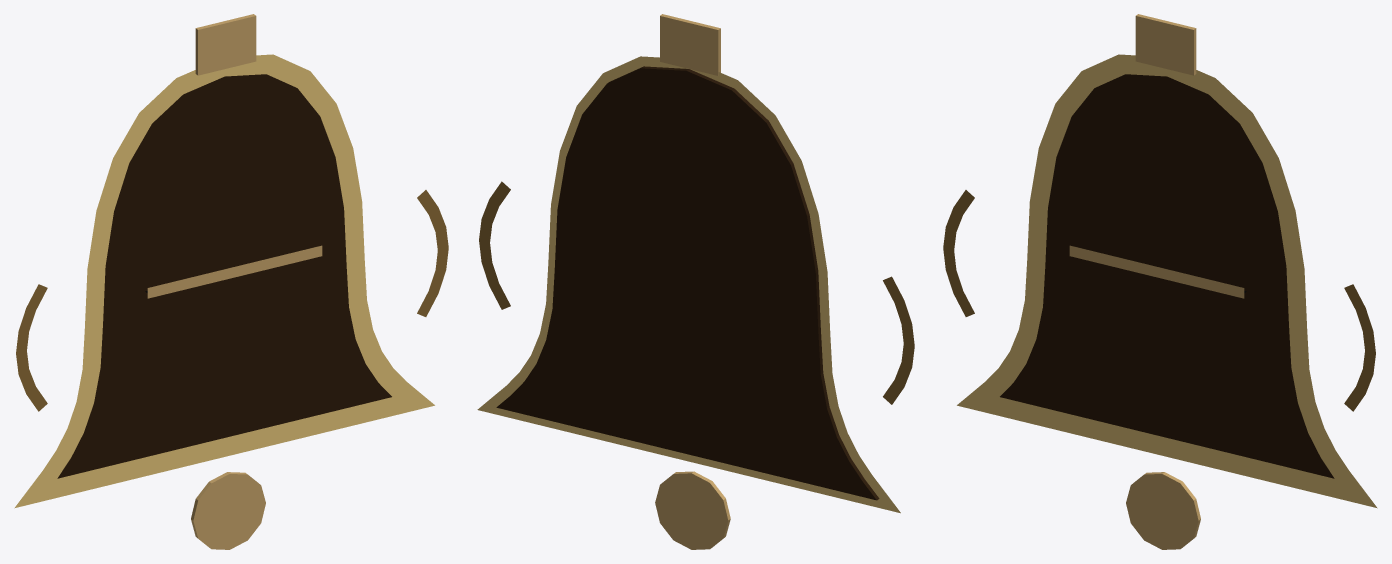
File: obj-bell.glb
The picture shows the model from 3 angles, left to right: view 1: azimuth 30°, elevation 25°; view 2: azimuth 150°, elevation 25°; view 3: azimuth 330°, elevation 25°; orthographic projection.
Visible parts, largest first — view 1: obj-bell; view 2: obj-bell; view 3: obj-bell.
Boxes of the visible parts, bbox=[...] form: obj-bell: bbox=[14, 14, 448, 549]; obj-bell: bbox=[477, 14, 914, 549]; obj-bell: bbox=[943, 14, 1377, 549].
Bounding box in the file's own units: 0.238 × 0.276 × 0.0121.
